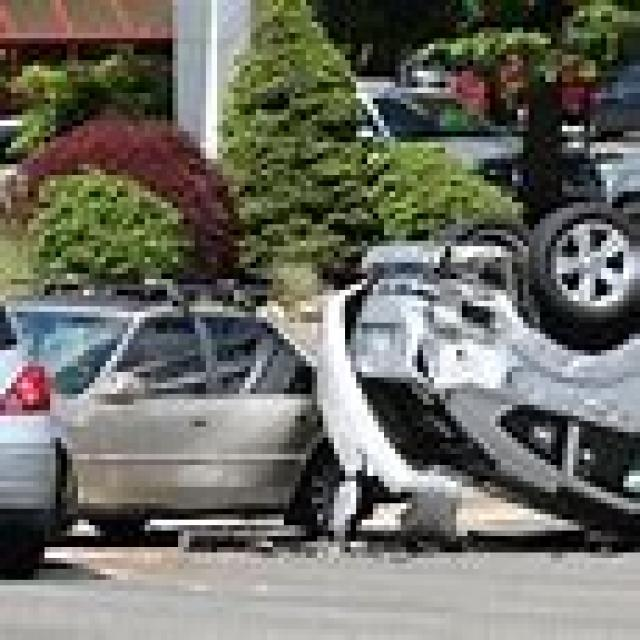Accident: (156, 197, 510, 521)
